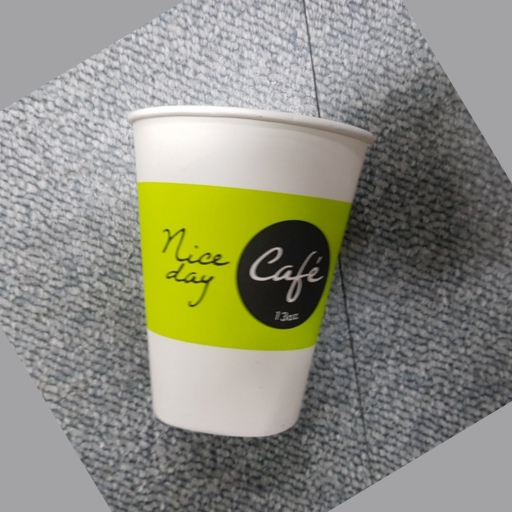Paper_1: (124, 108, 371, 437)
